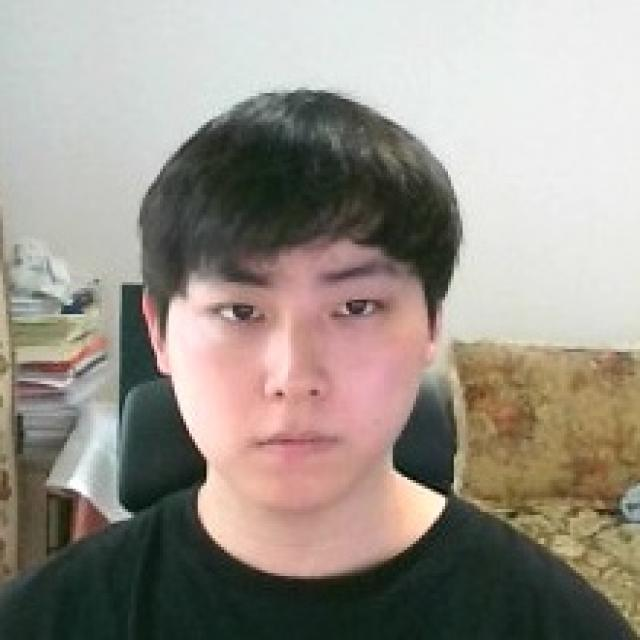eye: (207, 297, 273, 324), (326, 296, 393, 322)
gaze: (343, 297, 370, 317), (230, 303, 256, 321)
